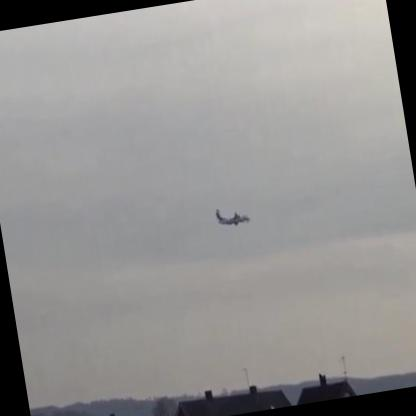plane: (215, 203, 252, 232)
